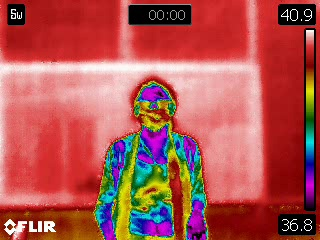human: (92, 77, 213, 240)
